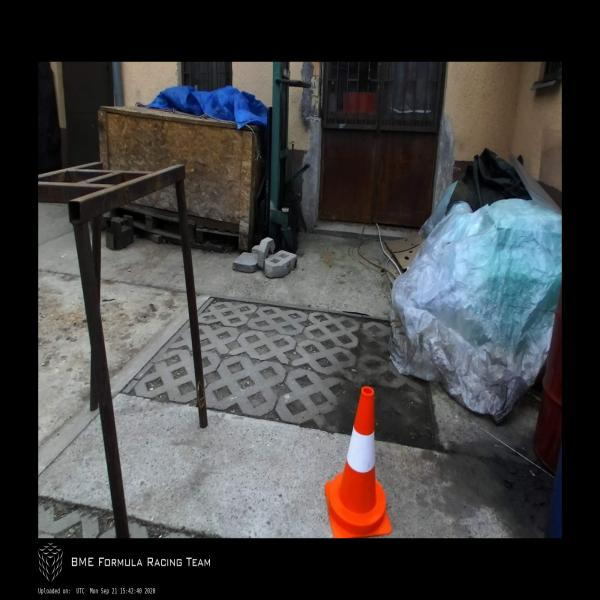orange_cone: (326, 387, 392, 538)
